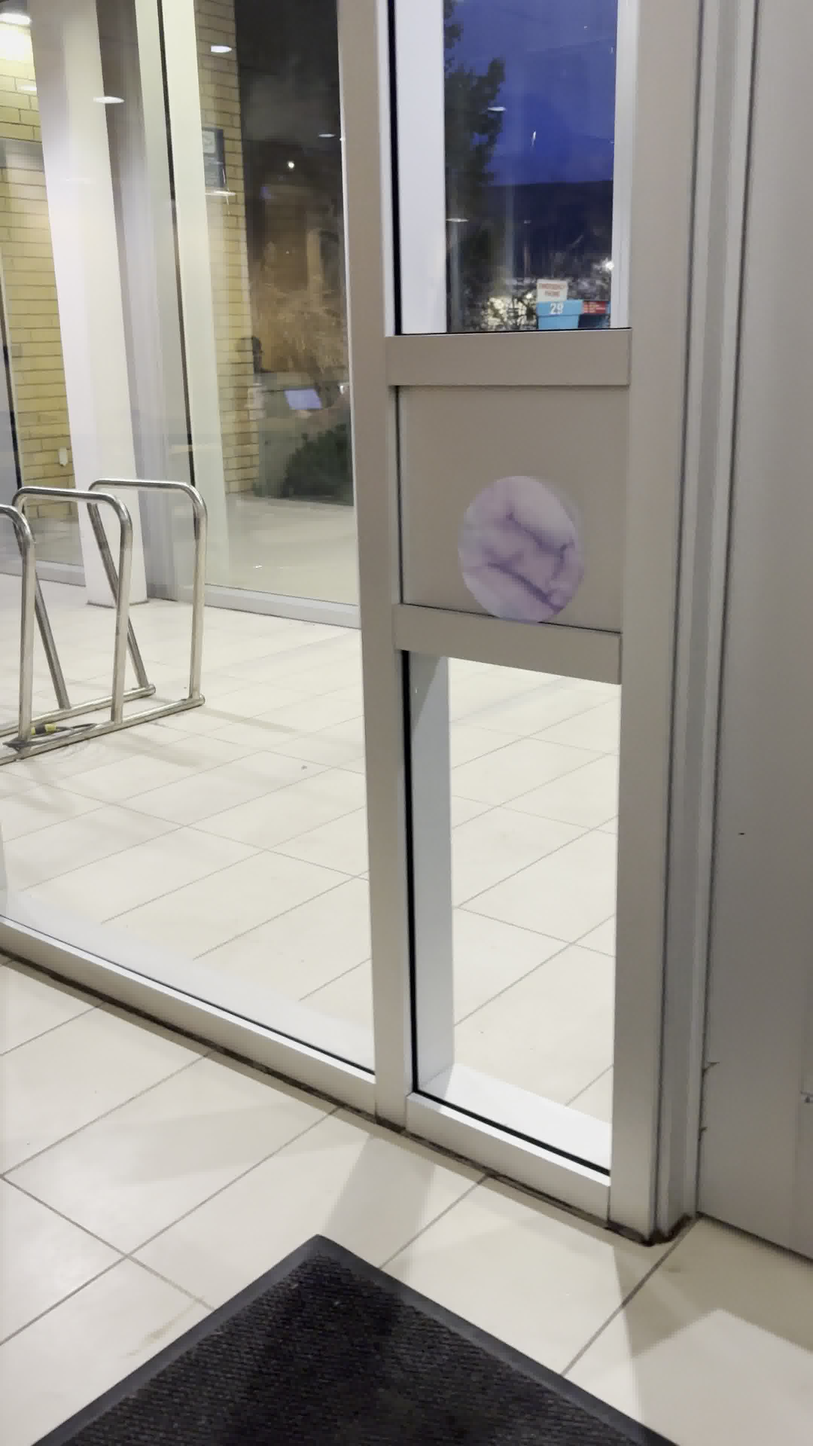Target: (455, 473, 587, 626)
